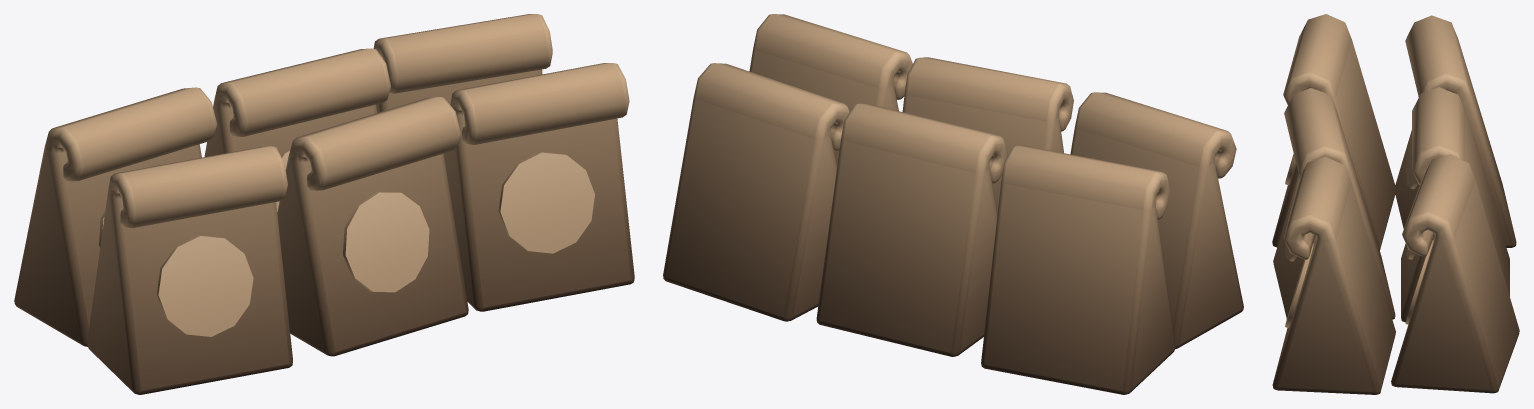
File: Kaffeetüten.fbx
3 views of the same model, side by side, from view 1: azimuth 30°, elevation 25°; view 2: azimuth 150°, elevation 25°; view 3: azimuth 270°, elevation 25° (orthographic). The views are drawn at different scales.
Visible parts, largest first — view 1: Cube.034, Cube.032, Cube.030, Cube.035, Cube.033, Cube.031; view 2: Cube.035, Cube.033, Cube.031, Cube.034, Cube.032, Cube.030; view 3: Cube.031, Cube.030, Cube.034, Cube.035, Cube.033, Cube.032.
Boxes of the visible parts, x1=… form: Cube.034: x1=87, y1=146, x2=292, y2=394; Cube.032: x1=277, y1=97, x2=468, y2=356; Cube.030: x1=443, y1=63, x2=634, y2=311; Cube.035: x1=14, y1=87, x2=217, y2=346; Cube.033: x1=204, y1=48, x2=390, y2=211; Cube.031: x1=373, y1=14, x2=552, y2=112; Cube.035: x1=981, y1=145, x2=1175, y2=394; Cube.033: x1=816, y1=103, x2=1007, y2=356; Cube.031: x1=663, y1=63, x2=849, y2=321; Cube.034: x1=1070, y1=92, x2=1243, y2=349; Cube.032: x1=902, y1=57, x2=1073, y2=213; Cube.030: x1=749, y1=14, x2=912, y2=165; Cube.031: x1=1391, y1=154, x2=1519, y2=393; Cube.030: x1=1272, y1=157, x2=1395, y2=394; Cube.034: x1=1272, y1=14, x2=1395, y2=250; Cube.035: x1=1395, y1=15, x2=1516, y2=247; Cube.033: x1=1401, y1=87, x2=1509, y2=322; Cube.032: x1=1273, y1=88, x2=1395, y2=319.
Size of the model in its own units: 36.36 by 14.25 by 18.07.
